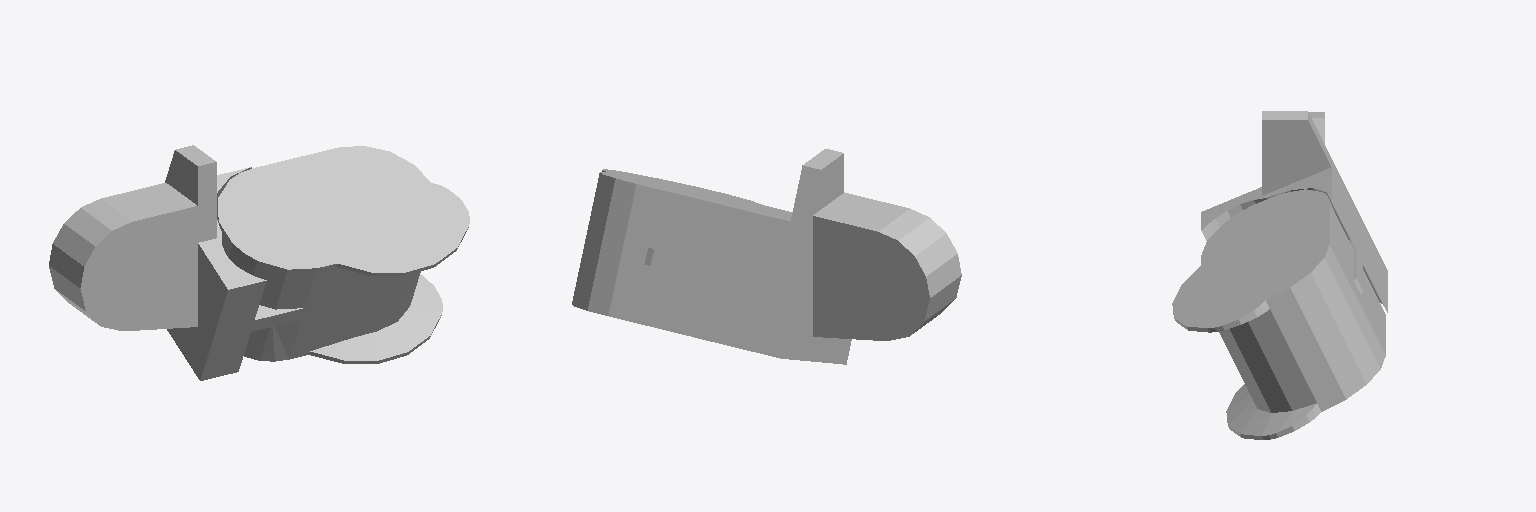
File: ph_thumb_r.obj
3 renders of one model, left to right at view 1: azimuth 30°, elevation 25°; view 2: azimuth 150°, elevation 25°; view 3: azimuth 270°, elevation 25°, orthographic.
Bounding box in the file's own units: 39.29 × 22.89 × 19.85.